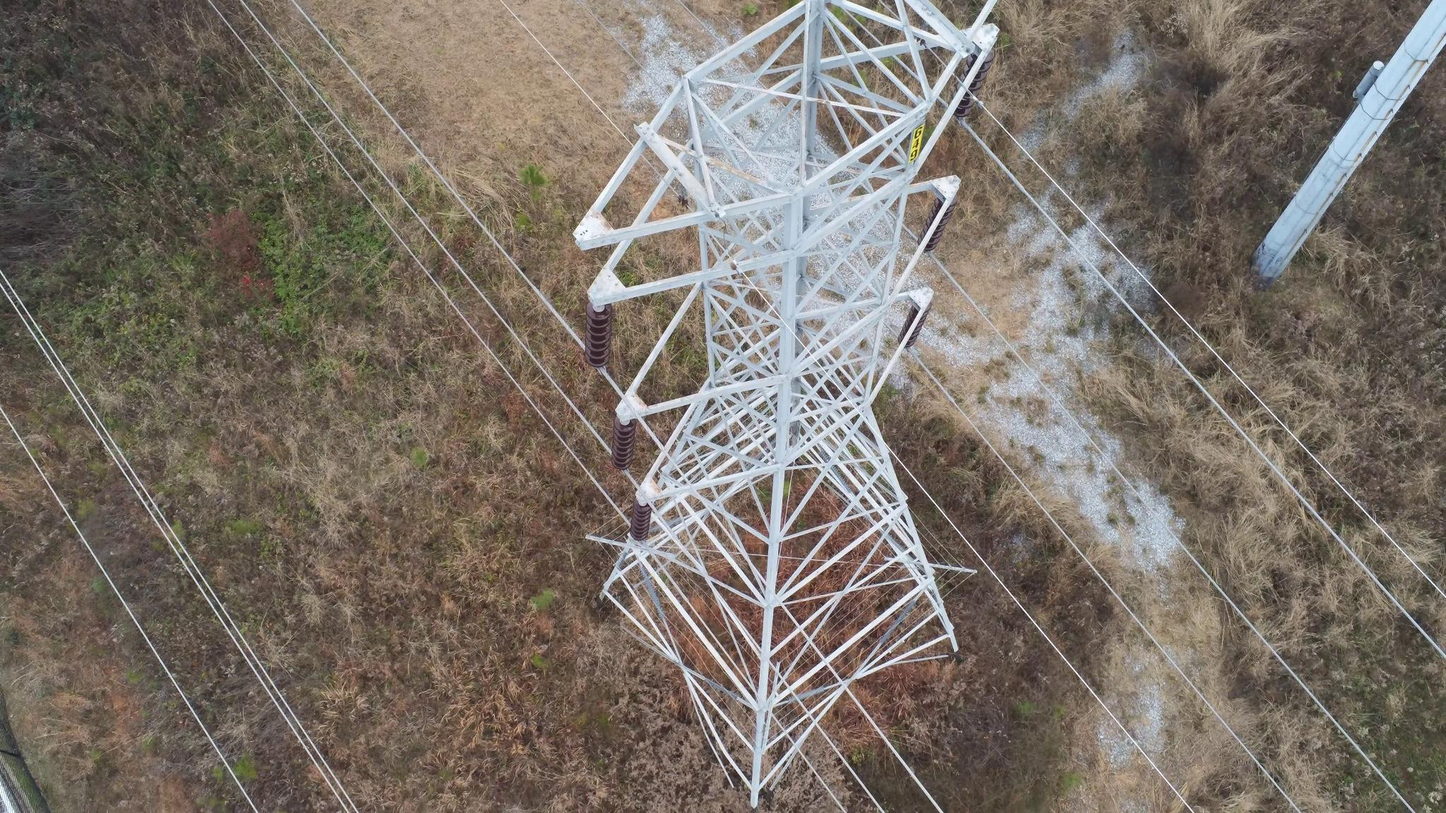tower: (567, 0, 1003, 813)
